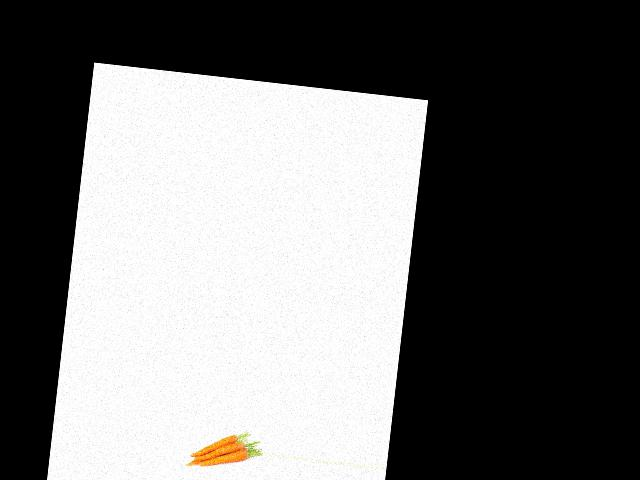carrot: (197, 445, 253, 474)
